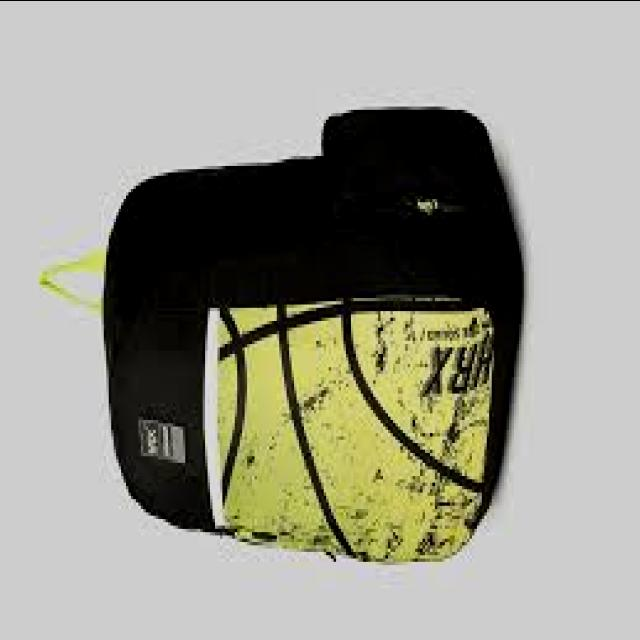backpack: (38, 107, 522, 569)
